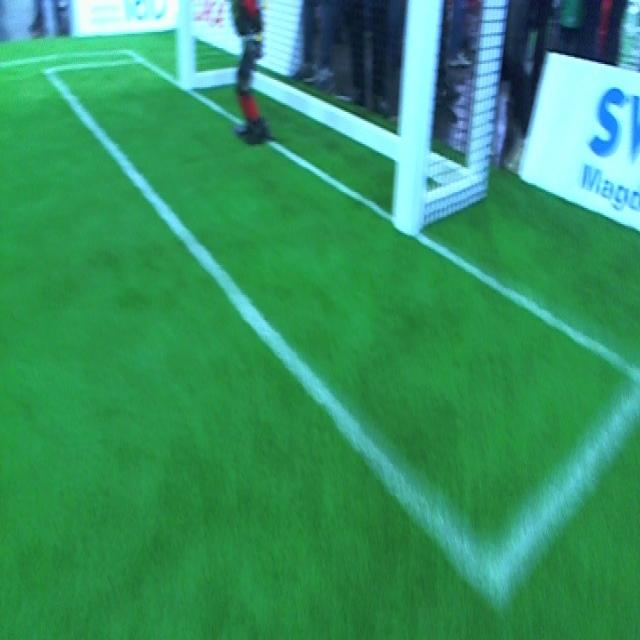goalpost: (393, 2, 442, 235), (179, 2, 198, 89)
